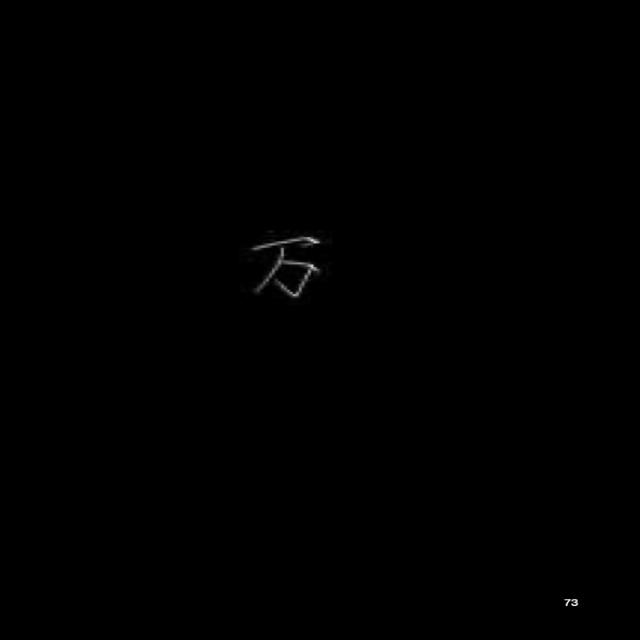10000 -a ten thousand-: (226, 222, 339, 314)
